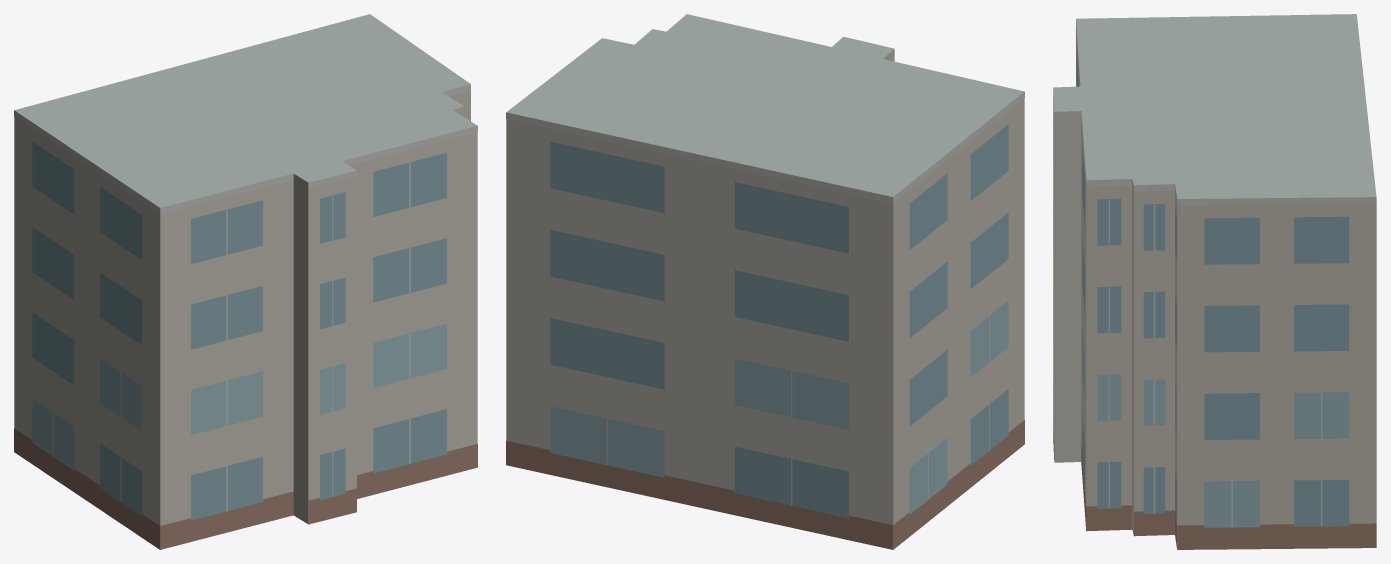
Rendered from survey-upis-32904958.glb.
3 renders of one model, left to right at view 1: azimuth 30°, elevation 25°; view 2: azimuth 150°, elevation 25°; view 3: azimuth 270°, elevation 25°, orthographic. The views are drawn at different scales.
Parts seen in each view (by area): view 1: survey-upis-32904958.tmp; view 2: survey-upis-32904958.tmp; view 3: survey-upis-32904958.tmp.
Boxes of the visible parts, x1,y1,x2,y2 form: survey-upis-32904958.tmp: (14,14,477,549); survey-upis-32904958.tmp: (506,14,1024,549); survey-upis-32904958.tmp: (1053,14,1376,549).
Bounding box in the file's own units: 14.99 × 13.25 × 11.07.
